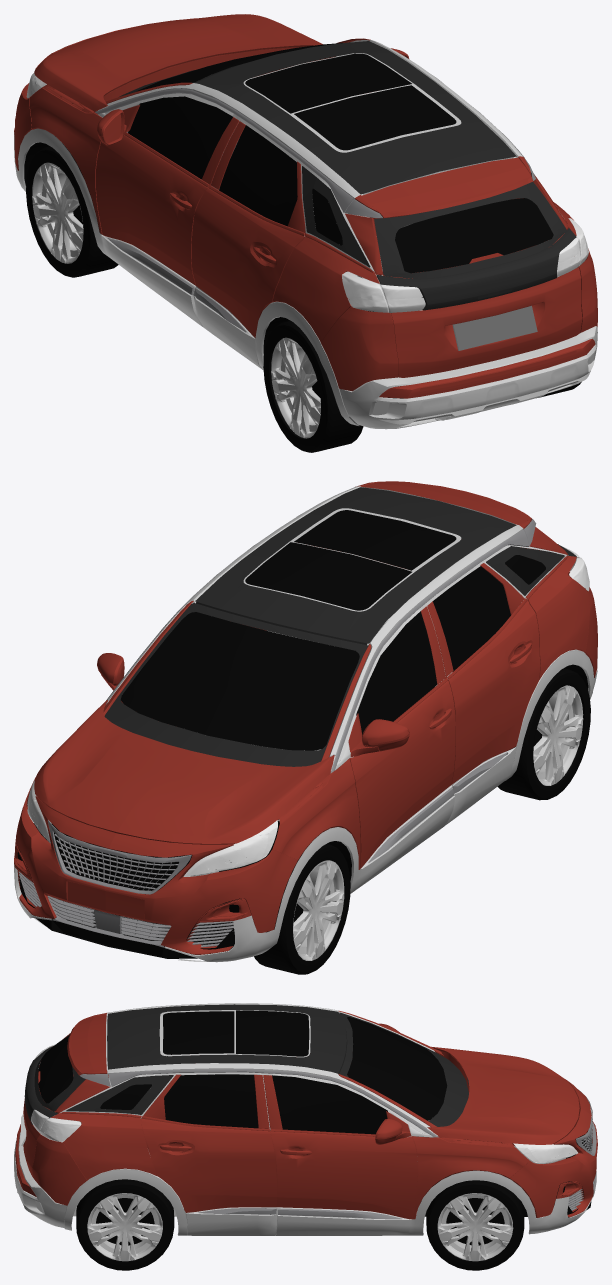
Rendered from suv_old.glb.
3 renders of one model, top to bottom at view 1: azimuth 30°, elevation 25°; view 2: azimuth 150°, elevation 25°; view 3: azimuth 270°, elevation 25°, orthographic. The views are drawn at different scales.
Visible parts, largest first — view 1: suv_car, back_left, front_left, License Plate, Light_Red_Back_Left, Light_Red_Back_Right, Light_White_Back_Left; view 2: suv_car, front_left, back_left, Light_Lamp Housings_Front_Left; view 3: suv_car, back_right, front_right, Light_Red_Back_Right, Light_Lamp Housings_Front_Right.
Boxes of the visible parts, x1,y1,x2,y2 form: suv_car: (14,14,597,429); back_left: (263,320,363,452); front_left: (26,144,118,277); License Plate: (452,305,537,350); Light_Red_Back_Left: (342,272,425,312); Light_Red_Back_Right: (557,218,588,276); Light_White_Back_Left: (342,277,424,306); suv_car: (14,481,597,962); front_left: (254,843,350,974); back_left: (497,668,590,800); Light_Lamp Housings_Front_Left: (183,820,277,876); suv_car: (14,1003,597,1235); back_right: (76,1179,174,1270); front_right: (426,1180,524,1270); Light_Red_Back_Right: (31,1109,81,1141); Light_Lamp Housings_Front_Right: (513,1143,577,1163).
Size of the model in its own units: 2.33 by 1.92 by 5.23.
